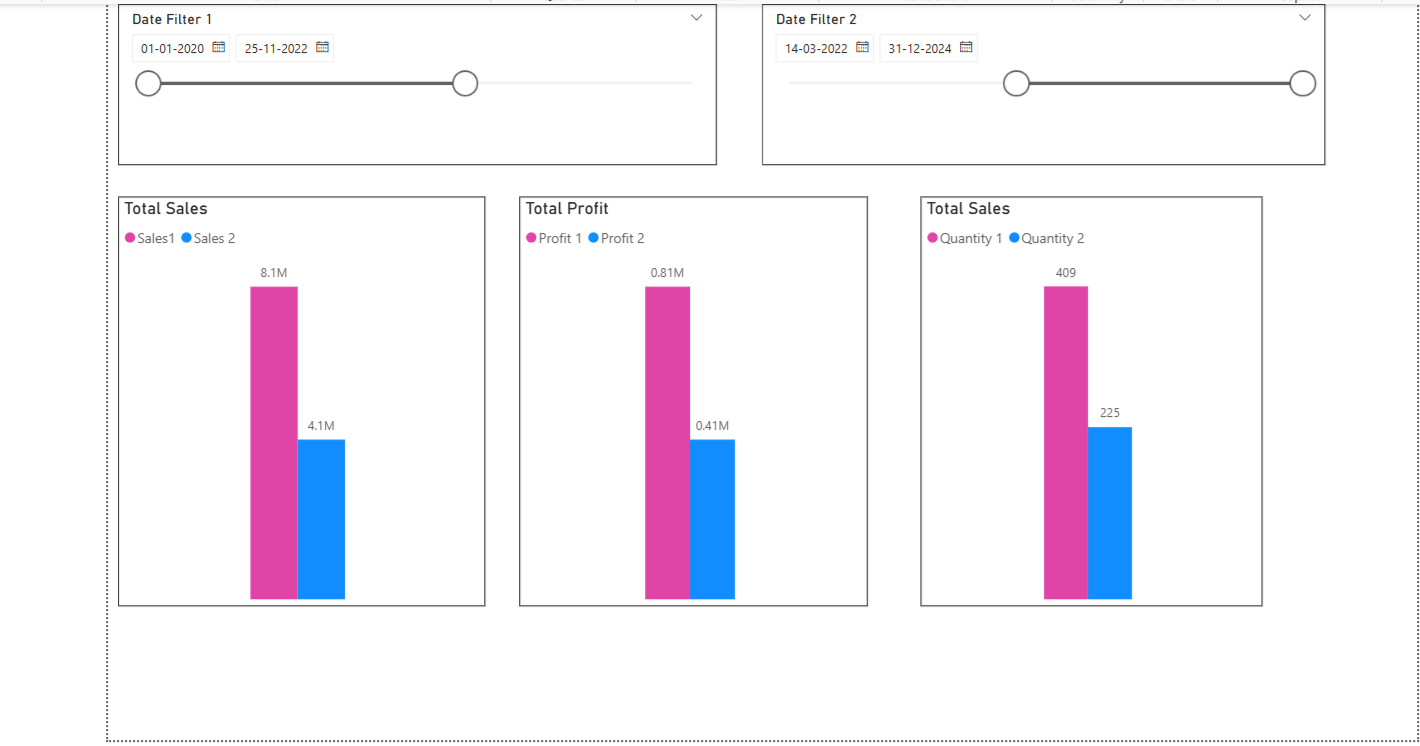

This screenshot's page, from the dashboard's own definition file:
{"tool":"powerbi","page":{"name":"Comparison Sales / profit / Quantity","canvas":[1280,720],"ordinal":2},"visuals":[{"type":"slicer","fields":{"Values":["Date Table 1.Date"]},"box":[10,0,585.6,157.8],"z":0},{"type":"slicer","fields":{"Values":["Date Table 2.Date"]},"box":[640,0,551.1,157.8],"z":1},{"type":"clusteredColumnChart","title":"Total Sales","fields":{"Y":["Sum(Fact Table.Net Sales)","Date Table 1.Sum of Net Sales"]},"box":[10,188.9,358.9,401.1],"z":2},{"type":"clusteredColumnChart","title":"Total Profit","fields":{"Y":["Sum(Fact Table.Profit)","Measures Table.Total Profit"]},"box":[402.2,188.9,341.1,401.1],"z":3},{"type":"clusteredColumnChart","title":"Total Sales","fields":{"Y":["Sum(Fact Table.Units Sold)","Measures Table.Quantity sold"]},"box":[794.4,188.9,334.4,401.1],"z":4}]}

Visuals, with their boxes in screenshot pixels (x1, y1, x2, y2):
slicer - Date Table 1.Date: left=114, top=0, right=713, bottom=161
slicer - Date Table 2.Date: left=758, top=0, right=1322, bottom=161
"Total Sales" clusteredColumnChart: left=114, top=193, right=481, bottom=604
"Total Profit" clusteredColumnChart: left=515, top=193, right=864, bottom=604
"Total Sales" clusteredColumnChart: left=916, top=193, right=1258, bottom=604
